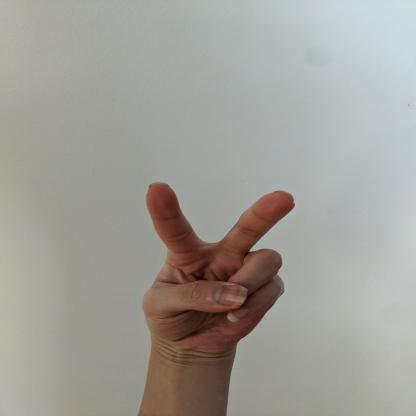V: (135, 178, 302, 352)
